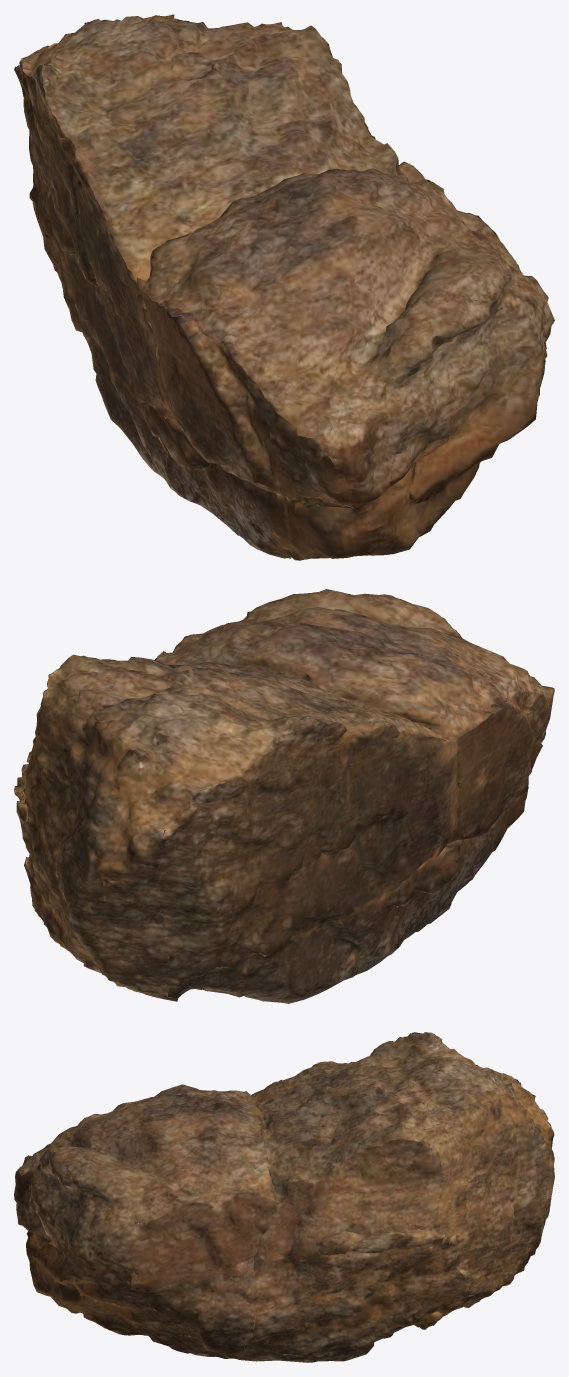
File: namaqualand_boulder_06.glb
3 renders of one model, top to bottom at view 1: azimuth 30°, elevation 25°; view 2: azimuth 150°, elevation 25°; view 3: azimuth 270°, elevation 25°, orthographic. The views are drawn at different scales.
Parts seen in each view (by area): view 1: namaqualand_boulder_06; view 2: namaqualand_boulder_06; view 3: namaqualand_boulder_06.
Part boxes in pixels (x1,y1,x2,y2): namaqualand_boulder_06: (14,14,554,560); namaqualand_boulder_06: (14,589,554,1003); namaqualand_boulder_06: (14,1032,554,1362).
Size of the model in its own units: 0.674 by 0.652 by 1.21.
Materials: 1 (1 with a texture image).
